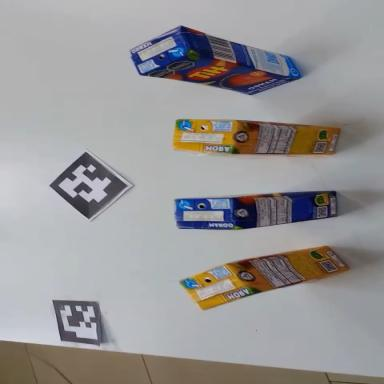HIT-MANGO: (126, 14, 306, 118), (173, 182, 340, 236)
HIT-MORA: (179, 233, 349, 314), (174, 119, 340, 156)
cara_F: (140, 43, 295, 110)
